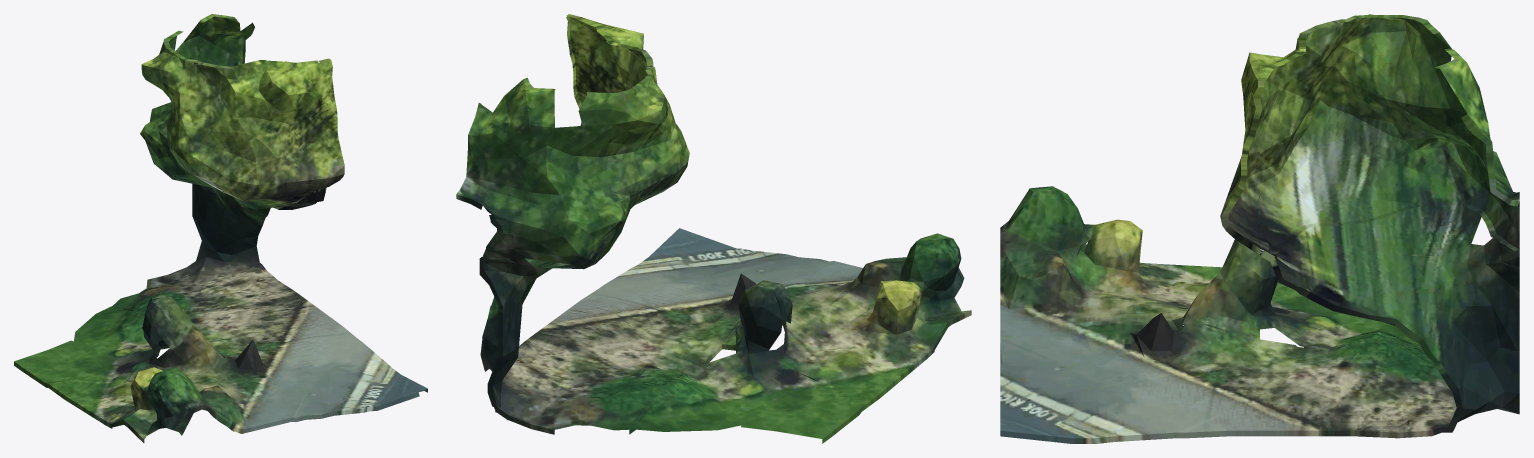
Rendered from BuildingMesh-00008.gltf.
The picture shows the model from 3 angles, left to right: view 1: azimuth 30°, elevation 25°; view 2: azimuth 150°, elevation 25°; view 3: azimuth 270°, elevation 25°; orthographic projection. The views are drawn at different scales.
Visible parts, largest first — view 1: BuildingMesh-00008; view 2: BuildingMesh-00008; view 3: BuildingMesh-00008.
Boxes of the visible parts, bbox=[...] form: BuildingMesh-00008: bbox=[14, 14, 427, 443]; BuildingMesh-00008: bbox=[456, 14, 971, 443]; BuildingMesh-00008: bbox=[1000, 14, 1519, 443].
Bounding box in the file's own units: 0.7765 × 0.7569 × 0.9725.
1 material, 1 textured.
